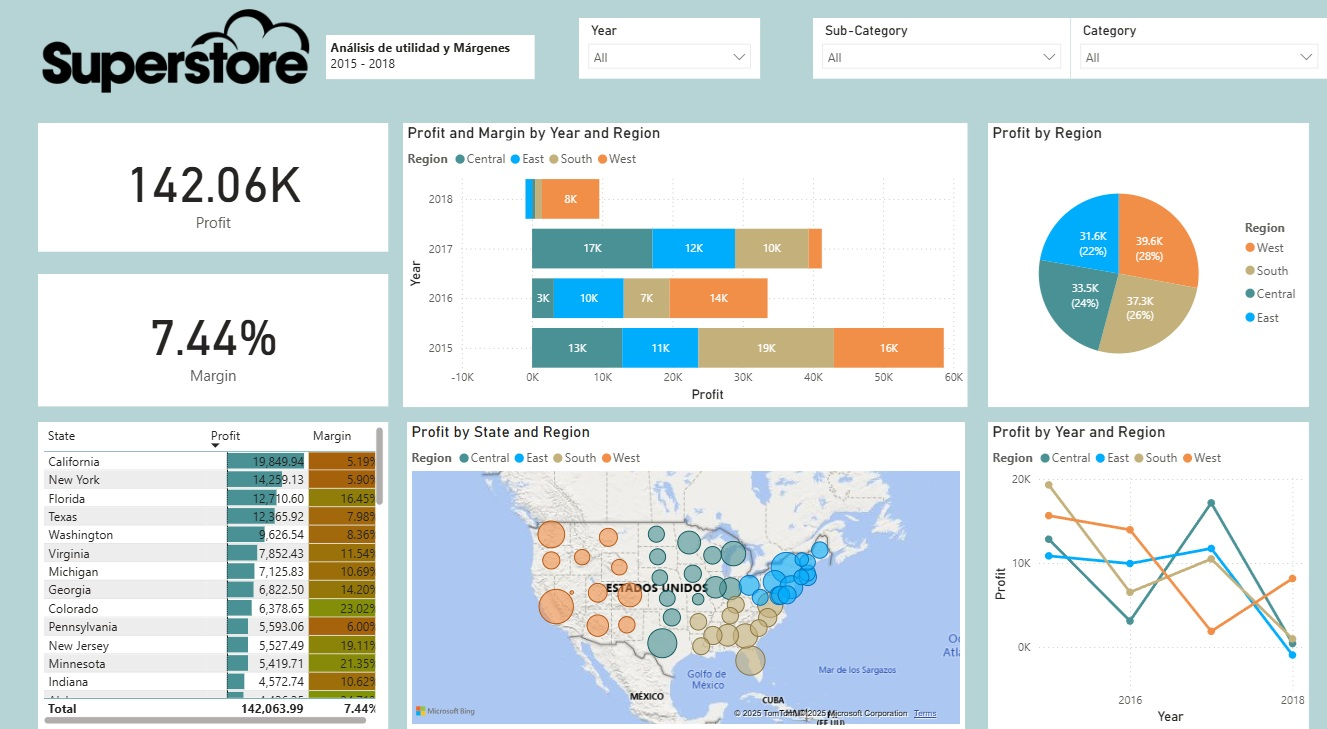

The dashboard page shown, as its layout file describes it:
{"tool":"powerbi","page":{"name":"Page 1","canvas":[1450,800],"ordinal":0},"visuals":[{"type":"card","fields":{"Values":["Hoja1.Profit"]},"box":[47.4,139.9,381.2,139.9],"z":0},{"type":"card","fields":{"Values":["Hoja1.Margin"]},"box":[47.4,304.1,381.2,144.3],"z":1000},{"type":"tableEx","fields":{"Values":["Hoja1.State","Hoja1.Profit","Hoja1.Margin"]},"box":[47.4,466.1,381.2,333.9],"z":2000},{"type":"barChart","fields":{"Category":["Hoja1.Year"],"Y":["Hoja1.Profit"],"Series":["Hoja1.Region"]},"box":[445.1,139.9,613.7,308.5],"z":3000},{"type":"slicer","fields":{"Values":["Hoja1.Year"]},"box":[636.9,26.4,197.2,66.1],"z":4000},{"type":"slicer","fields":{"Values":["Hoja1.Category"]},"box":[1171.2,26.4,278.8,66.1],"z":5000},{"type":"slicer","fields":{"Values":["Hoja1.Sub-Category"]},"box":[891.4,26.4,279.9,66.1],"z":6000},{"type":"pieChart","fields":{"Category":["Hoja1.Region"],"Y":["Hoja1.Profit"]},"box":[1080.9,139.9,349.3,308.5],"z":7000},{"type":"map","fields":{"Category":["Hoja1.State"],"Size":["Hoja1.Profit"],"Series":["Hoja1.Region"]},"box":[449.5,466.1,606,333.9],"z":8000},{"type":"lineChart","fields":{"Category":["Hoja1.Year"],"Y":["Hoja1.Profit"],"Series":["Hoja1.Region"]},"box":[1081.2,465.6,349.2,333.9],"z":9000},{"type":"image","box":[47.4,6.6,299.7,110.2],"z":10000},{"type":"textbox","box":[361.4,44.1,227,48.5],"z":11000}]}

Visuals, with their boxes in screenshot pixels (x1, y1, x2, y2), scaled from the page's 1450x800 canvas onto the 1327x729 screenshot:
card - Hoja1.Profit: 43 127 392 255
card - Hoja1.Margin: 43 277 392 409
tableEx - Hoja1.State x Hoja1.Profit: 43 425 392 728
barChart - Hoja1.Year x Hoja1.Profit: 407 127 969 409
slicer - Hoja1.Year: 583 24 763 84
slicer - Hoja1.Category: 1072 24 1326 84
slicer - Hoja1.Sub-Category: 816 24 1072 84
pieChart - Hoja1.Region x Hoja1.Profit: 989 127 1309 409
map - Hoja1.State x Hoja1.Profit: 411 425 966 728
lineChart - Hoja1.Year x Hoja1.Profit: 989 424 1309 728
image: 43 6 318 106
textbox: 331 40 538 84
